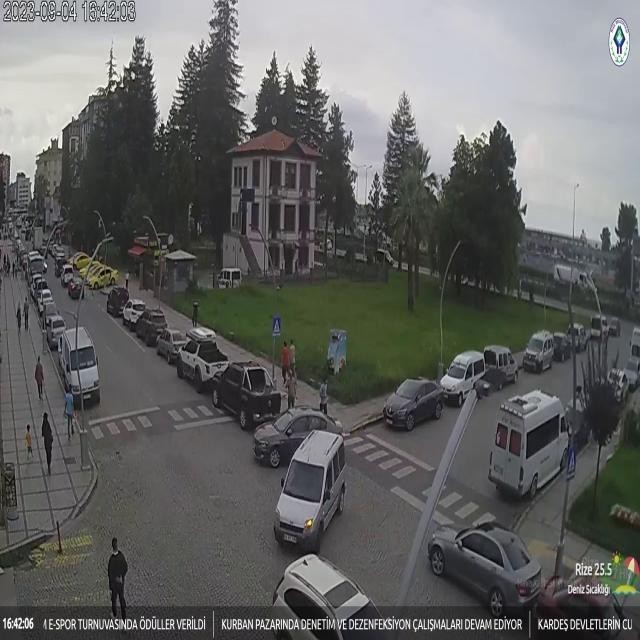Car: (418, 515, 539, 602), (276, 554, 384, 640), (532, 575, 620, 640), (250, 404, 348, 461), (215, 362, 282, 424), (175, 326, 234, 390), (383, 374, 442, 430), (136, 308, 170, 346), (156, 329, 190, 363), (121, 298, 148, 328), (106, 286, 131, 317), (608, 368, 631, 401), (66, 276, 91, 302), (90, 266, 117, 290), (36, 289, 56, 311)
Van: (265, 434, 361, 552), (477, 398, 575, 499), (57, 327, 99, 405), (442, 352, 492, 404), (484, 343, 521, 385), (523, 330, 555, 372), (44, 313, 67, 349), (565, 322, 588, 353), (590, 315, 614, 341), (216, 268, 242, 289)
